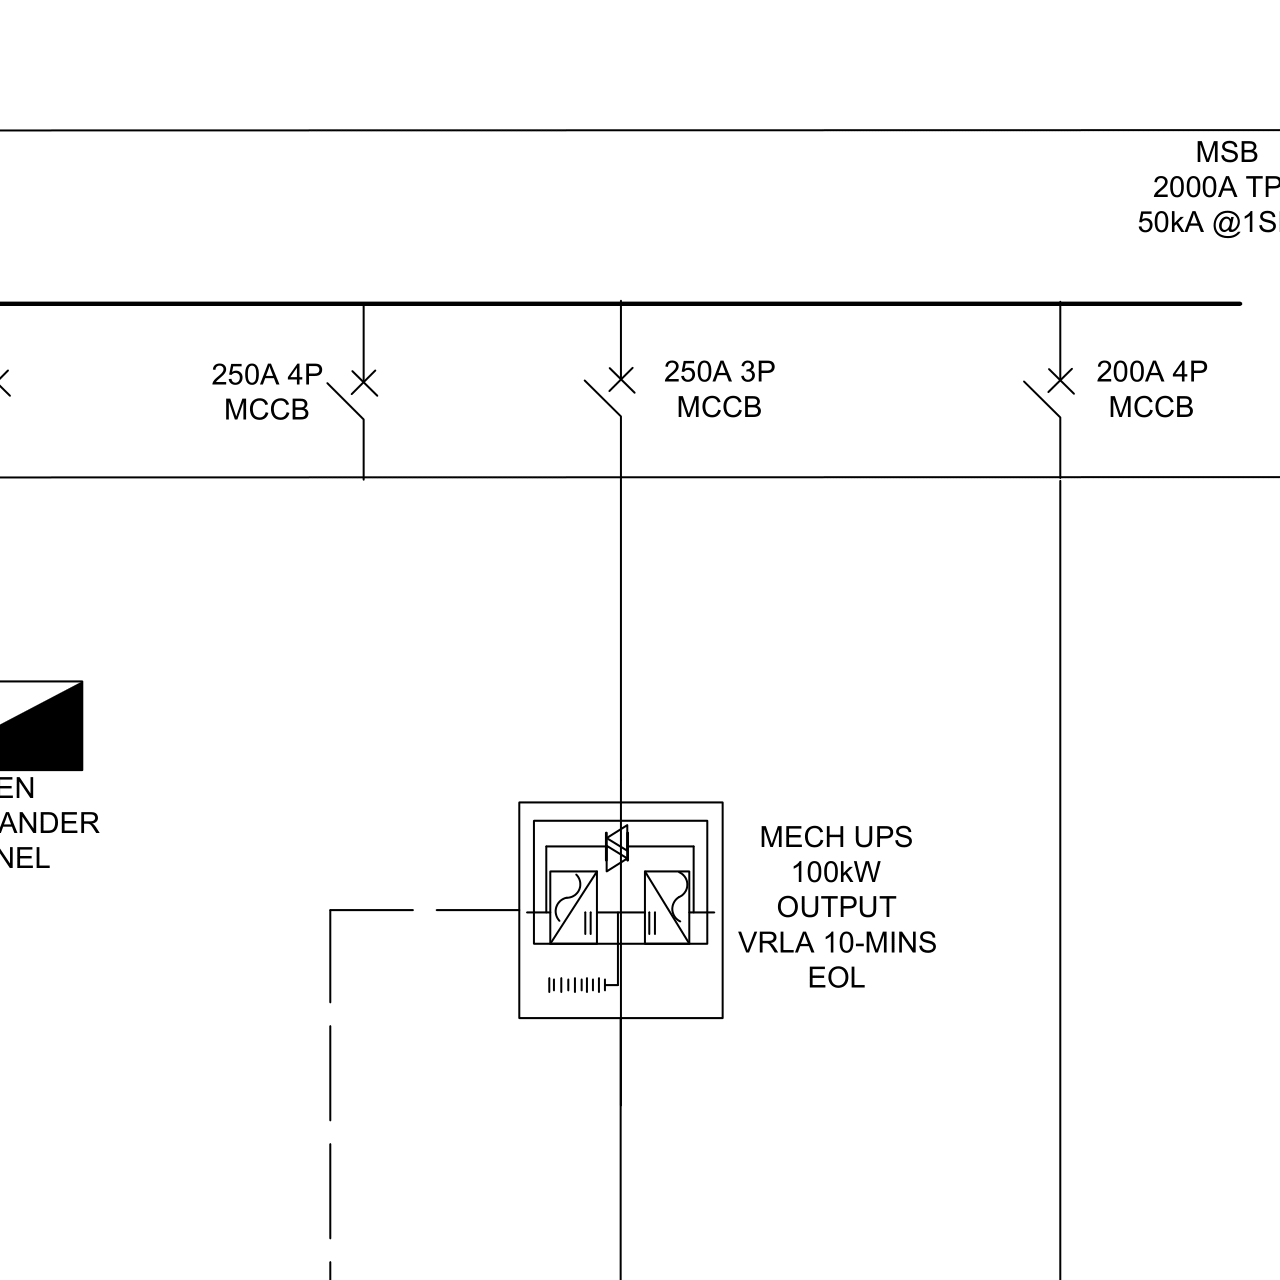UPS: (503, 788, 734, 1036)
